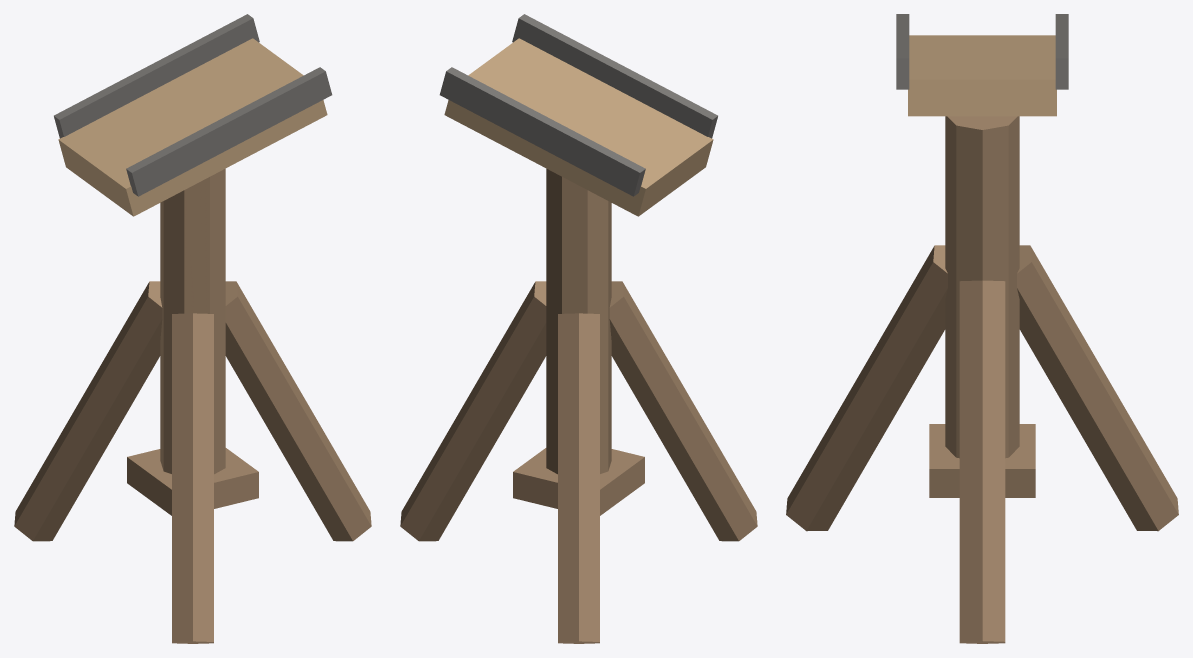
File: prop-hoof-stand.fbx
3 views of the same model, side by side, from view 1: azimuth 30°, elevation 25°; view 2: azimuth 150°, elevation 25°; view 3: azimuth 270°, elevation 25° (orthographic). The views are drawn at different scales.
Visible parts, largest first — view 1: prop-hoof-stand; view 2: prop-hoof-stand; view 3: prop-hoof-stand.
Part boxes in pixels (x1=…): prop-hoof-stand: x1=14, y1=14, x2=371, y2=643; prop-hoof-stand: x1=400, y1=14, x2=757, y2=643; prop-hoof-stand: x1=786, y1=14, x2=1178, y2=643.
Bounding box in the file's own units: 0.3325 × 0.5823 × 0.3698.
